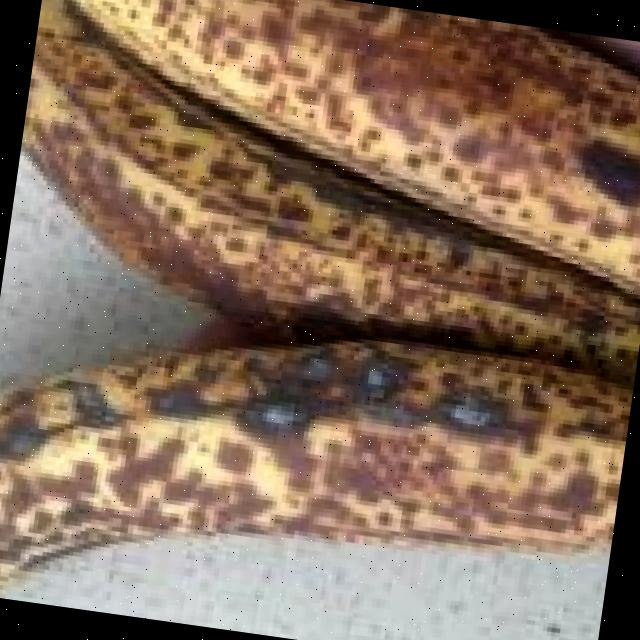Bad_Banana-0 day: (0, 0, 640, 582)
